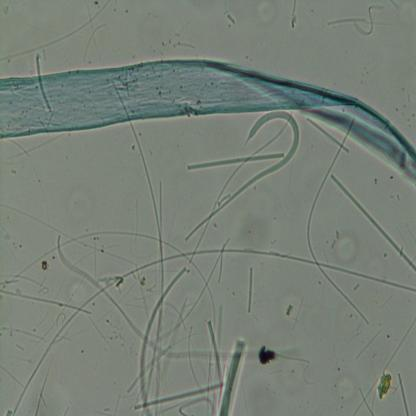Background material: (229, 211, 275, 251), (260, 345, 307, 375), (332, 230, 362, 262), (335, 365, 360, 403), (104, 315, 130, 350), (281, 294, 304, 326), (374, 367, 393, 401), (257, 0, 279, 25), (97, 274, 123, 294), (137, 274, 149, 288), (40, 260, 50, 272), (10, 168, 20, 180)
Cotton: (0, 55, 416, 190)
Glass filter fibre: (12, 244, 416, 414), (186, 110, 300, 242), (306, 132, 370, 327), (127, 119, 167, 414), (330, 173, 416, 272), (138, 264, 186, 416), (0, 288, 94, 315), (186, 149, 284, 173), (126, 345, 172, 396), (218, 339, 245, 416), (306, 117, 350, 153), (354, 3, 383, 37), (35, 365, 50, 415), (396, 372, 411, 414), (325, 13, 367, 28), (358, 388, 376, 414), (158, 179, 164, 239), (247, 266, 254, 314), (216, 251, 226, 283), (290, 1, 300, 28), (226, 15, 236, 26)
